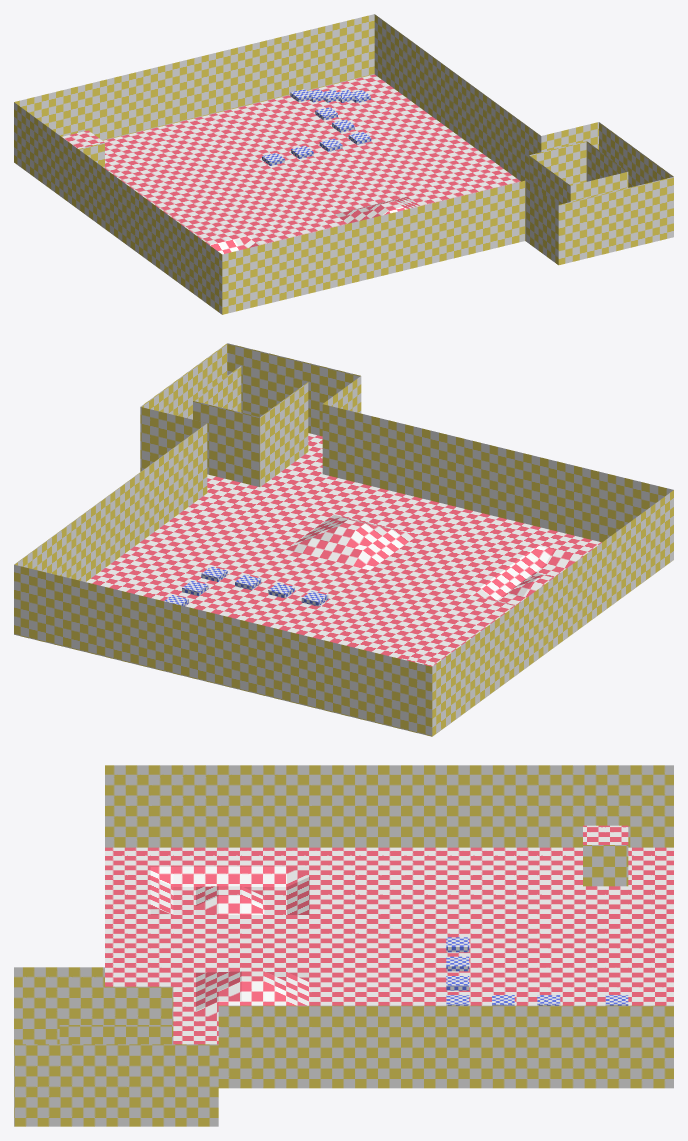
The model's file is Beta_Map_001-col.glb.
3 renders of one model, top to bottom at view 1: azimuth 30°, elevation 25°; view 2: azimuth 150°, elevation 25°; view 3: azimuth 270°, elevation 25°, orthographic. The views are drawn at different scales.
Parts seen in each view (by area): view 1: Plane; view 2: Plane; view 3: Plane.
Part boxes in pixels (x1,y1,x2,y2): Plane: (14, 14, 673, 314); Plane: (14, 343, 673, 736); Plane: (14, 765, 673, 1126).
Size of the model in its own units: 116 by 18 by 116.
Materials: 3 (3 with a texture image).
